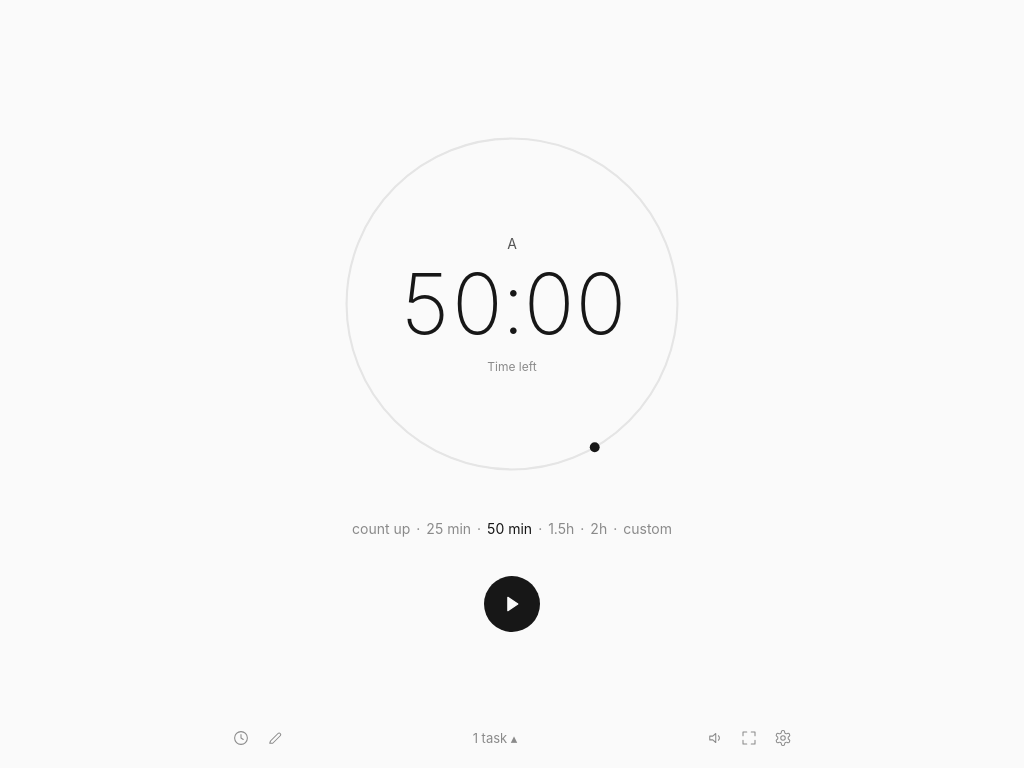
Test: focus screen › task kind toggles between learn and work
Click the button with test id "tasks-toggle-btn".
click(495, 738)  # box x1=461 y1=720 x2=529 y2=756
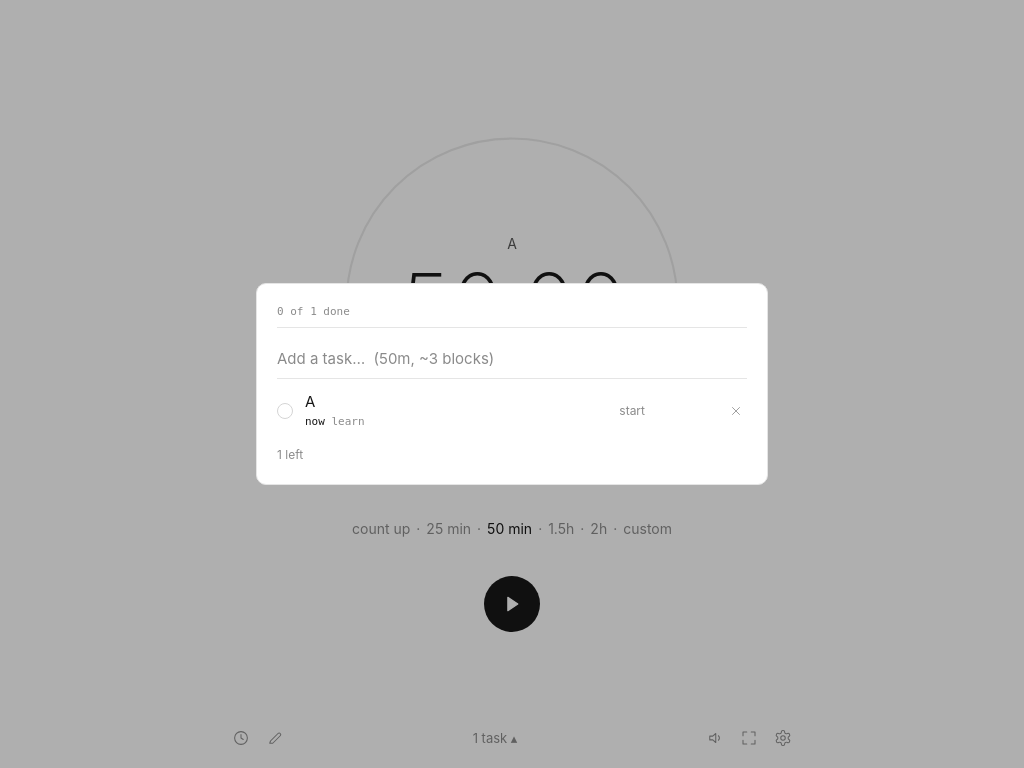
Click the button with aria-label "Kind of A: learn".
click(348, 422)  # box x1=332 y1=414 x2=365 y2=430
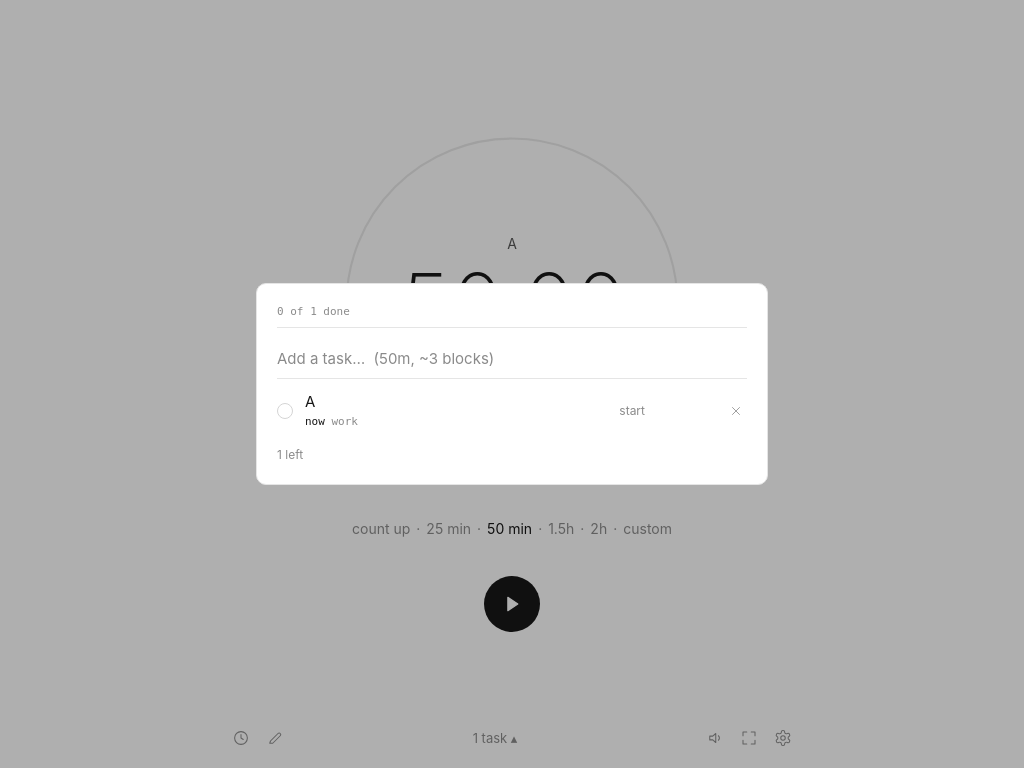
Expected: the button named "Kind of A: learn" reads "work", x1=332 y1=414 x2=358 y2=430
